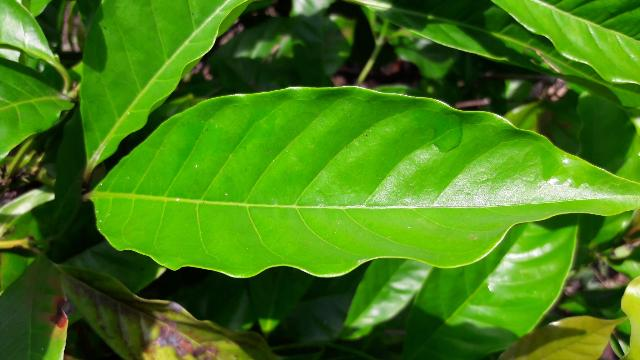healthy: (90, 85, 640, 278)
